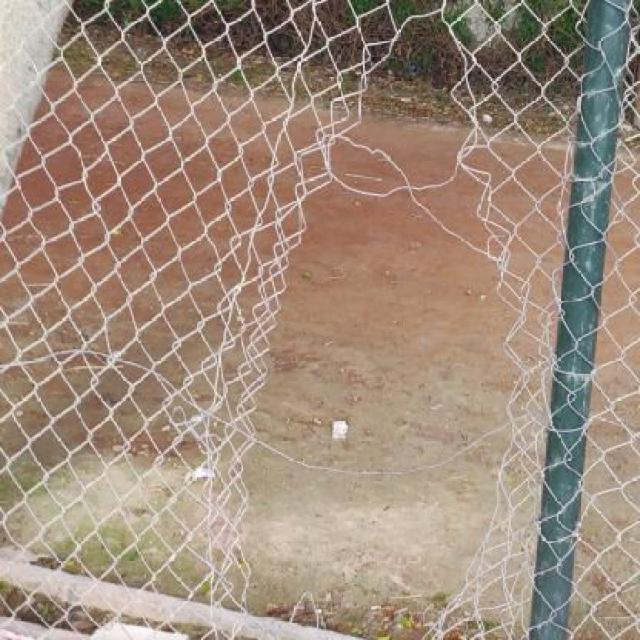fence line: (241, 32, 535, 625)
